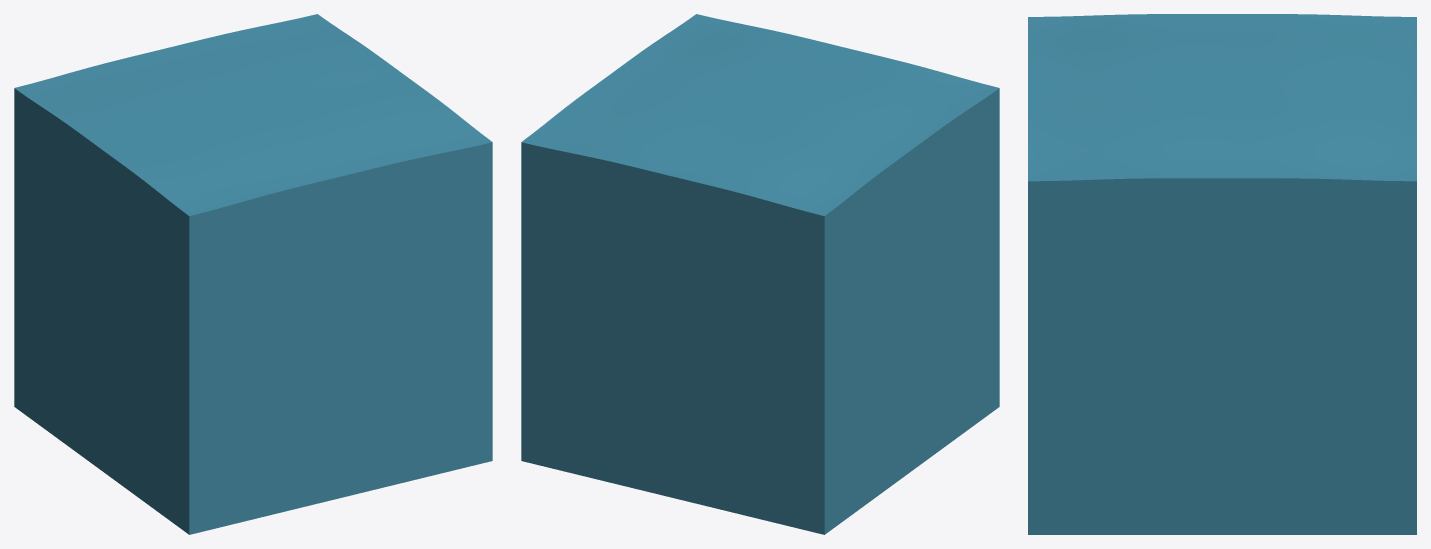
Rendered from slpool_wave60.glb.
The picture shows the model from 3 angles, left to right: view 1: azimuth 30°, elevation 25°; view 2: azimuth 150°, elevation 25°; view 3: azimuth 270°, elevation 25°; orthographic projection. The views are drawn at different scales.
Parts seen in each view (by area): view 1: poolWater; view 2: poolWater; view 3: poolWater.
Part boxes in pixels (<box>): poolWater: <box>14,14,492,534</box>; poolWater: <box>521,14,999,534</box>; poolWater: <box>1028,14,1416,534</box>.
Size of the model in its own units: 2 by 2.04 by 2.
